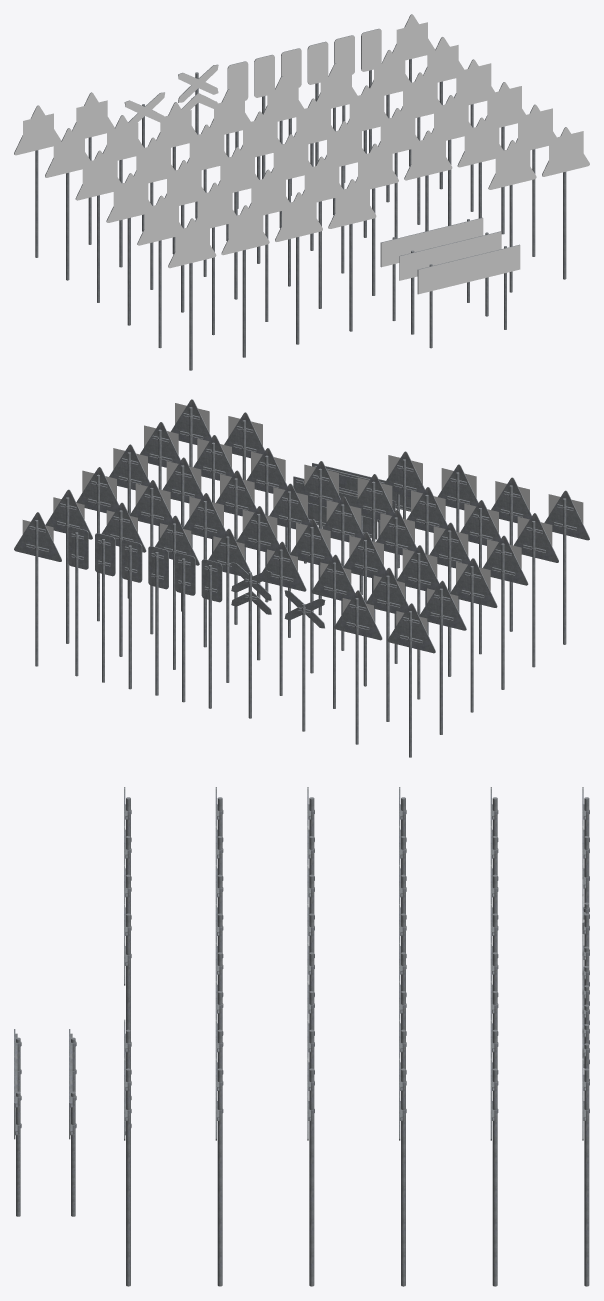
The model's file is WarningSigns.fbx.
3 views of the same model, one above another, from view 1: azimuth 30°, elevation 25°; view 2: azimuth 150°, elevation 25°; view 3: azimuth 270°, elevation 25° (orthographic). The views are drawn at different scales.
Parts seen in each view (by area): view 1: 1.31.3, 1.31.2, 1.31.1, 1.28, 1.27, 1.33, 1.30, 1.29, 1.15, 1.19, 1.32, 1.9 (+40 smaller); view 2: 1.9, 1.19, 1.27, 1.15, 1.2, 1.5, 1.6.1, 1.11.2, 1.12.1, 1.10, 1.6.4, 1.1 (+40 smaller); view 3: 1.8, 1.26, 1.5, 1.18.3, 1.14, 1.33, 1.31.2, 1.31.3, 1.30.
Boxes of the visible parts, left/top/right/bottom form: 1.31.3: left=417, top=244, right=520, bottom=348; 1.31.2: left=399, top=231, right=501, bottom=334; 1.31.1: left=380, top=217, right=483, bottom=320; 1.28: left=221, top=205, right=269, bottom=357; 1.27: left=168, top=218, right=216, bottom=370; 1.33: left=542, top=127, right=589, bottom=279; 1.30: left=328, top=179, right=376, bottom=331; 1.29: left=275, top=192, right=322, bottom=344; 1.15: left=106, top=173, right=151, bottom=325; 1.19: left=137, top=195, right=182, bottom=348; 1.32: left=488, top=140, right=536, bottom=292; 1.9: left=75, top=150, right=121, bottom=302; 1.9: left=450, top=558, right=497, bottom=712; 1.19: left=513, top=513, right=558, bottom=667; 1.27: left=544, top=490, right=589, bottom=644; 1.15: left=483, top=535, right=528, bottom=689; 1.2: left=334, top=590, right=382, bottom=744; 1.5: left=14, top=512, right=61, bottom=666; 1.6.1: left=419, top=580, right=466, bottom=734; 1.11.2: left=290, top=519, right=332, bottom=673; 1.12.1: left=236, top=506, right=279, bottom=660; 1.10: left=396, top=545, right=439, bottom=699; 1.6.4: left=262, top=541, right=306, bottom=695; 1.1: left=387, top=603, right=435, bottom=757; 1.8: left=490, top=1058, right=498, bottom=1286; 1.26: left=215, top=1058, right=223, bottom=1286; 1.5: left=582, top=1058, right=589, bottom=1286; 1.18.3: left=307, top=1058, right=314, bottom=1286; 1.14: left=399, top=1058, right=406, bottom=1286; 1.33: left=124, top=1058, right=131, bottom=1286; 1.31.2: left=69, top=1029, right=76, bottom=1216; 1.31.3: left=14, top=1029, right=21, bottom=1216; 1.30: left=124, top=903, right=131, bottom=1030.
Size of the model in its own units: 395 by 137 by 314.
